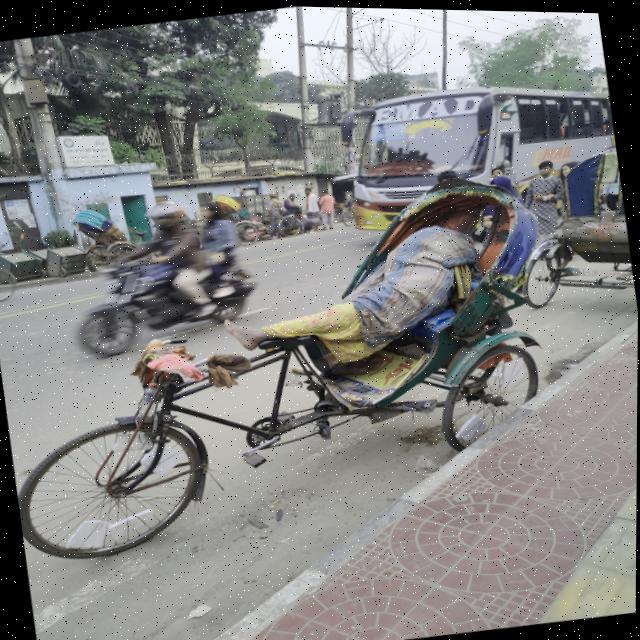rikshaw: (0, 162, 594, 605)
